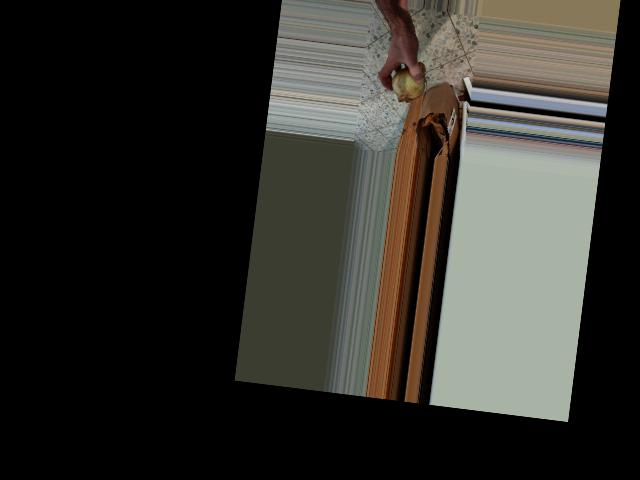onion: (386, 58, 429, 106)
